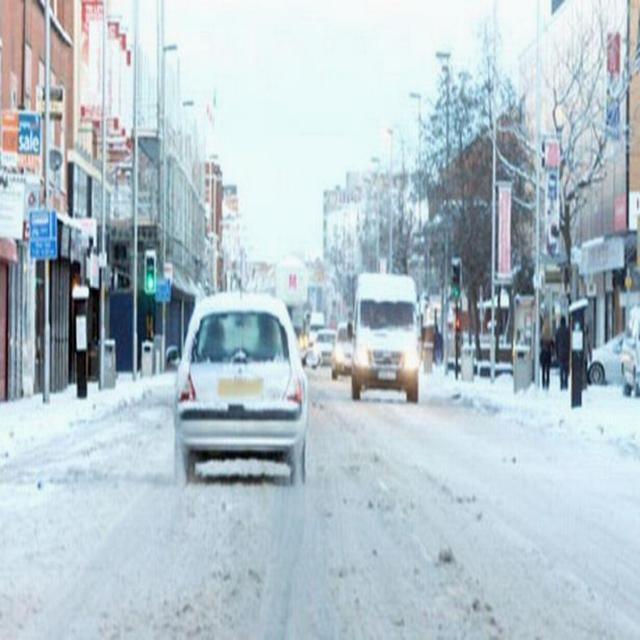Car: (165, 291, 310, 490), (580, 330, 630, 386), (618, 302, 640, 403), (331, 320, 355, 383), (314, 327, 334, 366)
Van: (344, 270, 427, 402), (306, 307, 327, 348)
